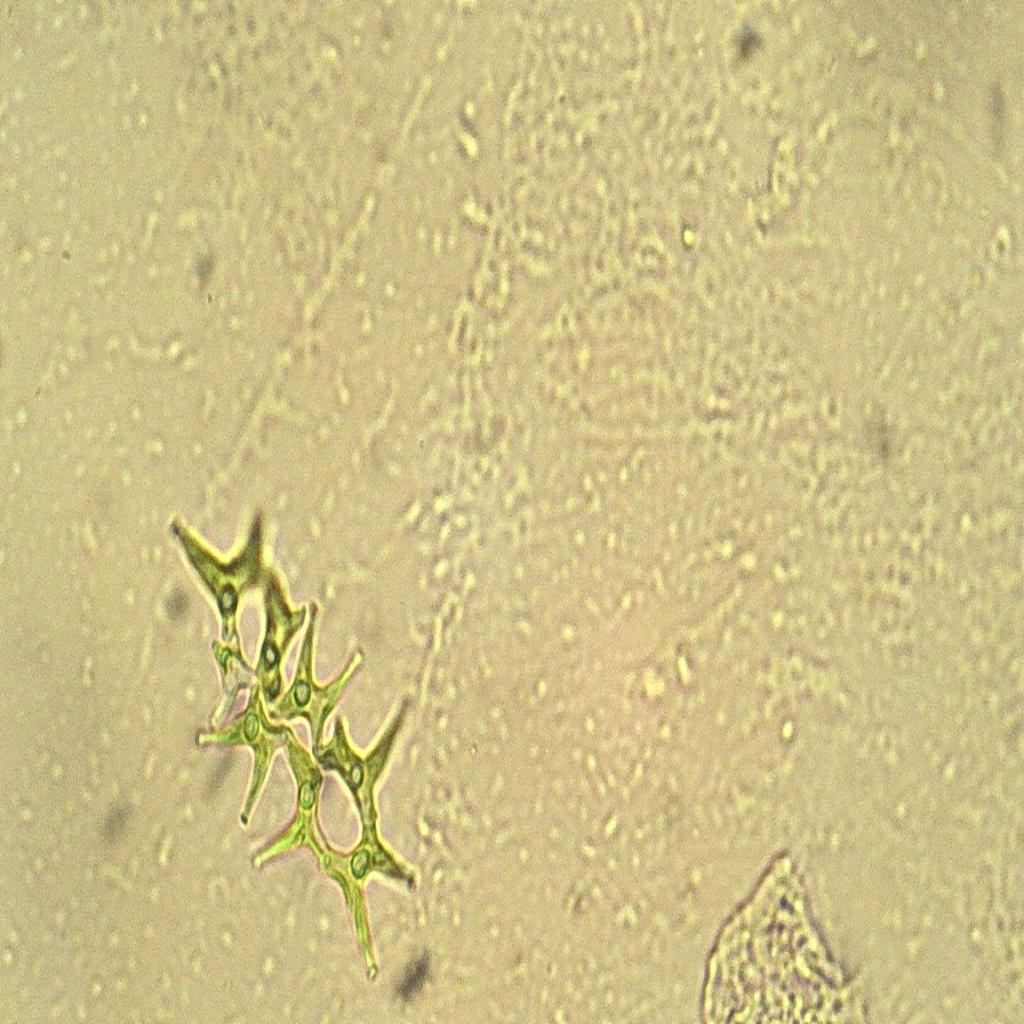Pediastrum_1TH: (154, 486, 453, 998)
